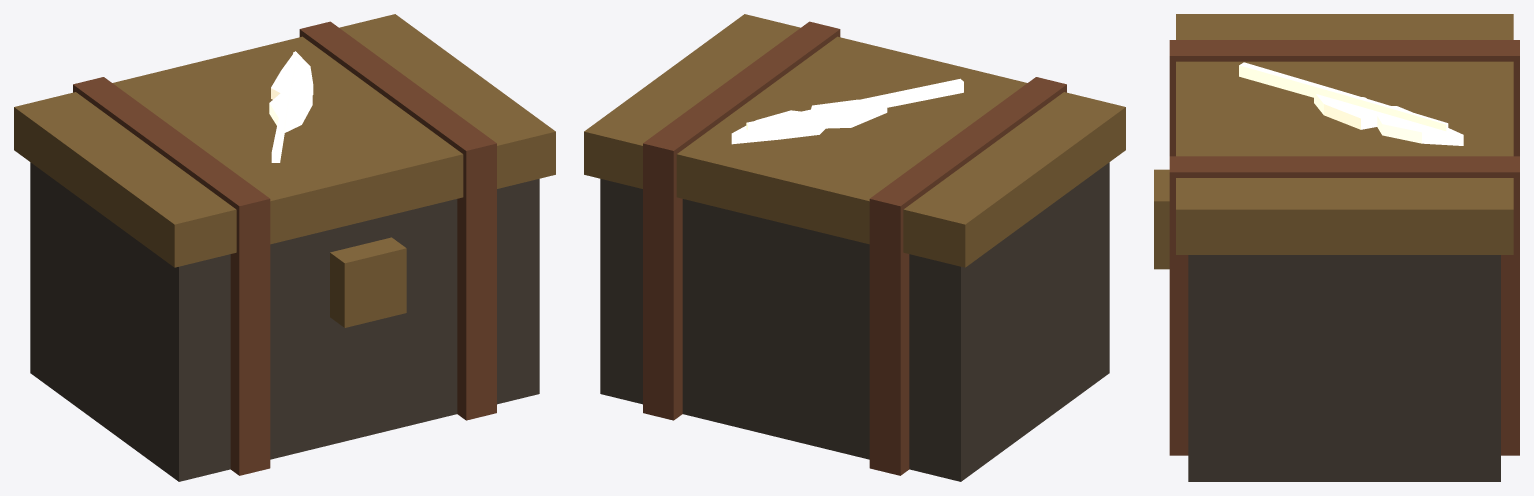
The model's file is sealed_box_stationery.glb.
3 renders of one model, left to right at view 1: azimuth 30°, elevation 25°; view 2: azimuth 150°, elevation 25°; view 3: azimuth 270°, elevation 25°, orthographic. The views are drawn at different scales.
Visible parts, largest first — view 1: sealed_box_stationery; view 2: sealed_box_stationery; view 3: sealed_box_stationery.
Part boxes in pixels (<box>): sealed_box_stationery: <box>14,14,555,481</box>; sealed_box_stationery: <box>584,14,1125,481</box>; sealed_box_stationery: <box>1154,14,1519,481</box>.
Bounding box in the file's own units: 0.74 × 0.522 × 0.585.
